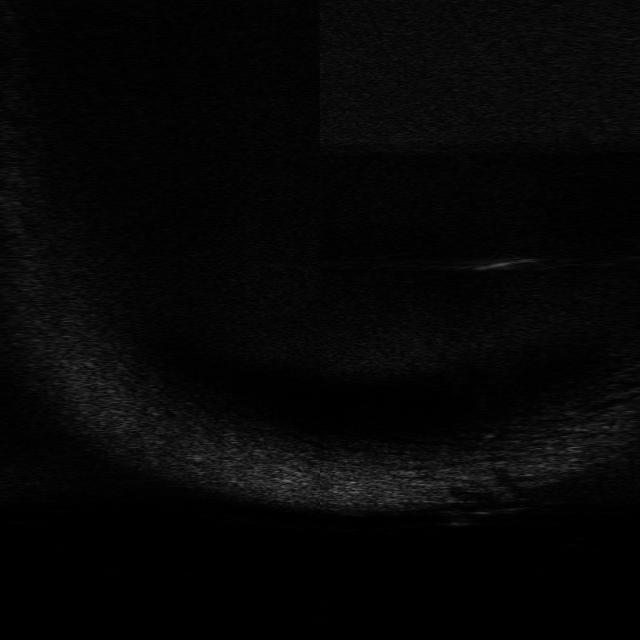plane: (436, 503, 532, 526)
